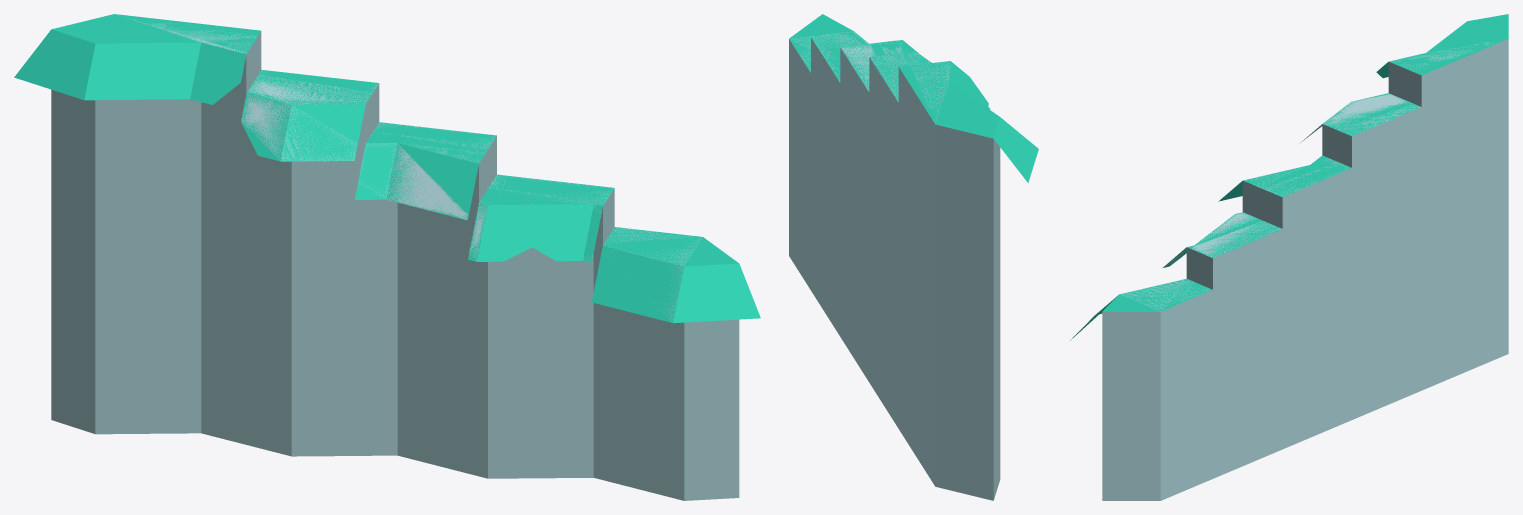
File: cliff_stairBorderDiagonal_upper_left_stone.fbx
The picture shows the model from 3 angles, left to right: view 1: azimuth 30°, elevation 25°; view 2: azimuth 150°, elevation 25°; view 3: azimuth 270°, elevation 25°; orthographic projection. The views are drawn at different scales.
Visible parts, largest first — view 1: cliff_topDiagonal_stone; view 2: cliff_topDiagonal_stone; view 3: cliff_topDiagonal_stone.
Boxes of the visible parts, left/top/right/bottom form: cliff_topDiagonal_stone: left=14, top=14, right=760, bottom=500; cliff_topDiagonal_stone: left=789, top=14, right=1038, bottom=500; cliff_topDiagonal_stone: left=1070, top=14, right=1508, bottom=500.
Size of the model in its own units: 12.68 by 10 by 12.68.
